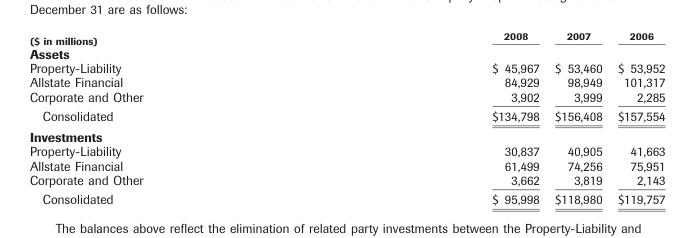table: (28, 28, 664, 206)
table column: (28, 28, 317, 206), (317, 28, 546, 206), (546, 28, 609, 206), (609, 28, 664, 206)
table column header: (28, 28, 664, 45)
table projected row header: (28, 126, 664, 143), (28, 45, 664, 60)
table row: (28, 105, 664, 126), (28, 28, 664, 45), (28, 126, 664, 143), (28, 172, 664, 189), (28, 189, 664, 206), (28, 89, 664, 105), (28, 45, 664, 60), (28, 74, 664, 89), (28, 143, 664, 158), (28, 60, 664, 74), (28, 158, 664, 172)
